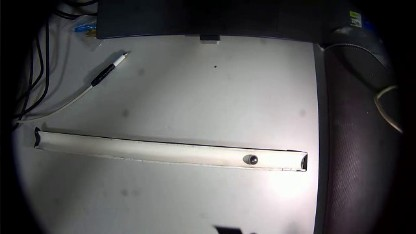gangzhu: (248, 154, 258, 166)
